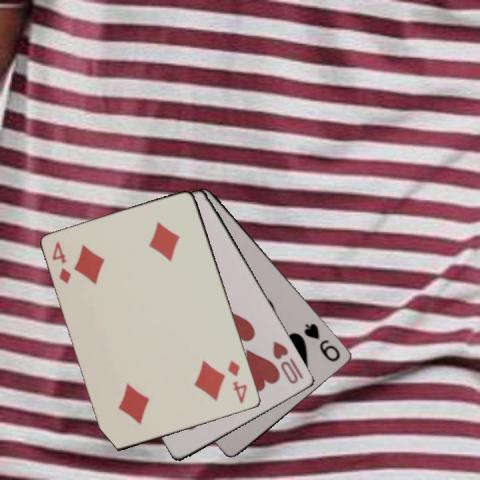10h: (270, 338, 305, 385)
4d: (225, 358, 249, 406), (49, 238, 73, 286)
9s: (301, 320, 342, 363)
